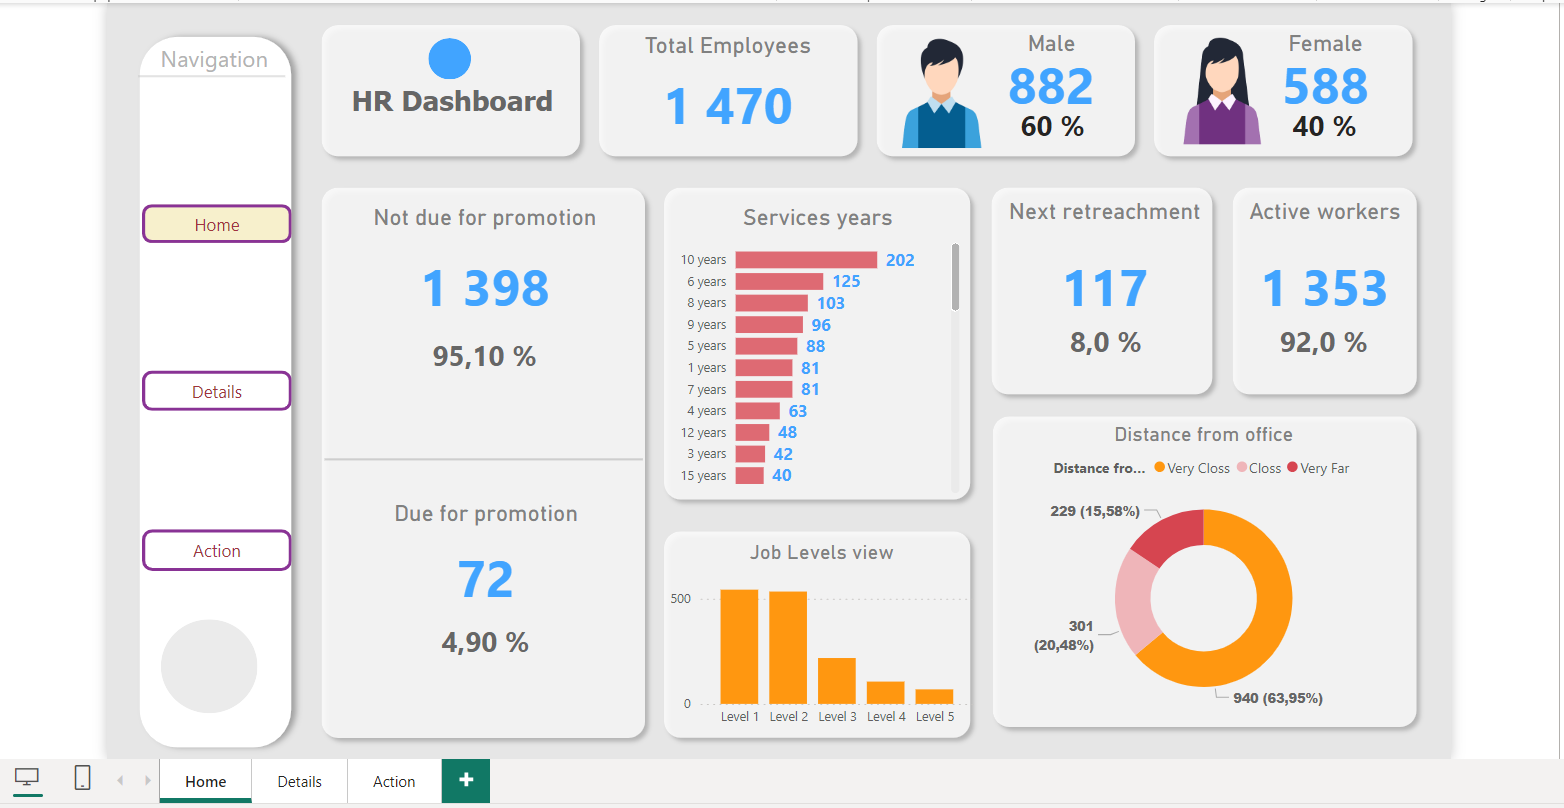

What the dashboard file says about the page in this screenshot:
{"tool":"powerbi","page":{"name":"Home","canvas":[1280,720],"ordinal":0},"visuals":[{"type":"shape","box":[20.6,22,166,698.5],"z":0},{"type":"shape","box":[195.4,12.4,264.3,143.1],"z":1000},{"type":"shape","box":[459.7,12.4,264.3,143.1],"z":2000},{"type":"shape","box":[724,12.4,264.3,143.1],"z":3000},{"type":"shape","box":[988.2,12.4,264.3,143.1],"z":4000},{"type":"shape","box":[195.4,166.5,326.2,542.3],"z":5000},{"type":"shape","box":[521.6,166.2,309.7,315.2],"z":6000},{"type":"shape","box":[521.6,494.1,309.7,214.7],"z":7000},{"type":"shape","box":[834.8,384.2,421.6,314.1],"z":8000},{"type":"shape","box":[833.6,166.7,228.3,215],"z":9000},{"type":"shape","box":[1063.1,166.7,193.3,215],"z":10000},{"type":"textbox","box":[209.7,71.2,238.7,51.4],"z":11000},{"type":"textbox","box":[36.9,33,130.5,51.4],"z":12000},{"type":"textbox","box":[209.7,97.6,251.9,55.4],"z":13000},{"type":"shape","box":[305.9,33,40.9,39.6],"z":14000},{"type":"card","title":"Total Employees","fields":{"Values":["All Measures.Total Emp"]},"box":[467.9,27.4,247,112.5],"z":15000},{"type":"card","title":"Male","fields":{"Values":["All Measures.Male"]},"box":[814.8,26.2,170.7,75.7],"z":16000},{"type":"card","fields":{"Values":["All Measures.Male %"]},"box":[834.1,90.8,132.1,55.1],"z":17000},{"type":"card","title":"Female","fields":{"Values":["All Measures.Female"]},"box":[1068.7,26.2,183.1,75.7],"z":18000},{"type":"card","fields":{"Values":["All Measures.Female %"]},"box":[1083.9,90.8,152.8,53.7],"z":19000},{"type":"card","title":"Active workers","fields":{"Values":["All Measures.On service"]},"box":[1058.3,186,203,142.6],"z":24000},{"type":"card","fields":{"Values":["All Measures.% Active workers"]},"box":[1082.4,296,153.4,53.2],"z":26000},{"type":"card","title":"Next retreachment","fields":{"Values":["All Measures.Due for retirment"]},"box":[843.2,186,215,142.6],"z":27000},{"type":"card","fields":{"Values":["All Measures.%Due for retirment"]},"box":[865,296,171.5,53.2],"z":28000},{"type":"columnChart","title":"Job Levels view","fields":{"Category":["HR Analytics Data.Job Level"],"Y":["All Measures.Total Emp"]},"box":[531.3,512,300,185.8],"z":29000},{"type":"barChart","title":"Services years","fields":{"Category":["HR Analytics Data.Total working Years"],"Y":["All Measures.Total Emp"]},"box":[536.4,192.1,280.3,280.3],"z":30000},{"type":"donutChart","title":"Distance from office","fields":{"Category":["HR Analytics Data.Distance from office"],"Y":["All Measures.Total Emp"]},"box":[840.8,399.9,408.3,282.7],"z":31000},{"type":"card","title":"Not due for promotion","fields":{"Values":["All Measures.Not Due"]},"box":[207.8,192.1,303.2,130.5],"z":32000},{"type":"card","title":"Due for promotion","fields":{"Values":["All Measures.Due for promotion"]},"box":[209,473.8,303.2,119.6],"z":33000},{"type":"shape","box":[206.6,427.7,303.2,14.5],"z":34000},{"type":"card","fields":{"Values":["All Measures.% Not due for promotion"]},"box":[283.5,309.7,152.8,53.7],"z":35000},{"type":"card","fields":{"Values":["All Measures.% Due for promotion"]},"box":[285.1,582.5,152.2,53.2],"z":36000},{"type":"shape","box":[51.4,586.8,92.3,89.7],"z":40000},{"type":"shape","box":[30.2,61.6,140.1,15.7],"z":41000},{"type":"image","box":[734.5,25,121.4,120.2],"z":41001},{"type":"image","box":[1010.7,25,102.4,115.5],"z":41002},{"type":"actionButton","box":[32.9,192.1,142.7,37],"z":41003},{"type":"actionButton","box":[32.9,500.9,142.7,39.8],"z":41004},{"type":"actionButton","box":[32.9,349.9,142.7,38.4],"z":41005}]}

Visuals, with their boxes on the page's 1280x720 design canvas (x1, y1, x2, y2). These are canvas units, not pixel positions in the 1564x808 screenshot, which may show the page scaled, cropped or inside an application window:
shape: 21/22/187/720
shape: 195/12/460/156
shape: 460/12/724/156
shape: 724/12/988/156
shape: 988/12/1252/156
shape: 195/166/522/709
shape: 522/166/831/481
shape: 522/494/831/709
shape: 835/384/1256/698
shape: 834/167/1062/382
shape: 1063/167/1256/382
textbox: 210/71/448/123
textbox: 37/33/167/84
textbox: 210/98/462/153
shape: 306/33/347/73
"Total Employees" card: 468/27/715/140
"Male" card: 815/26/986/102
card - All Measures.Male %: 834/91/966/146
"Female" card: 1069/26/1252/102
card - All Measures.Female %: 1084/91/1237/144
"Active workers" card: 1058/186/1261/329
card - All Measures.% Active workers: 1082/296/1236/349
"Next retreachment" card: 843/186/1058/329
card - All Measures.%Due for retirment: 865/296/1036/349
"Job Levels view" columnChart: 531/512/831/698
"Services years" barChart: 536/192/817/472
"Distance from office" donutChart: 841/400/1249/683
"Not due for promotion" card: 208/192/511/323
"Due for promotion" card: 209/474/512/593
shape: 207/428/510/442
card - All Measures.% Not due for promotion: 284/310/436/363
card - All Measures.% Due for promotion: 285/582/437/636
shape: 51/587/144/676
shape: 30/62/170/77
image: 734/25/856/145
image: 1011/25/1113/140
actionButton: 33/192/176/229
actionButton: 33/501/176/541
actionButton: 33/350/176/388
